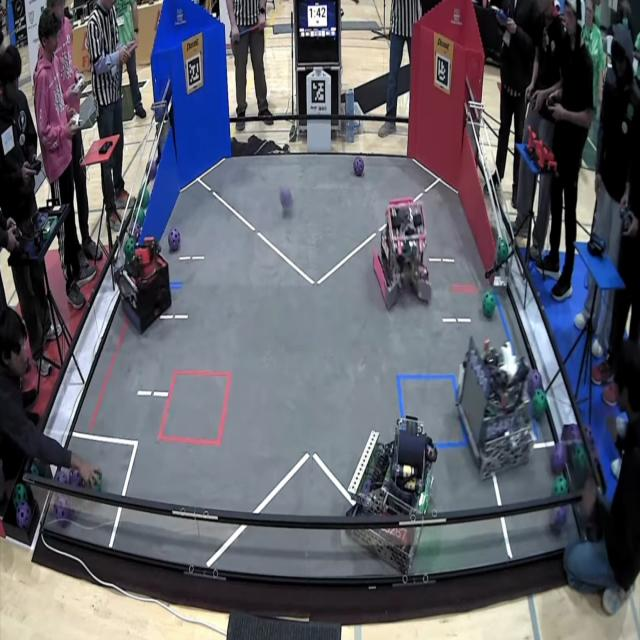artifact_green: (532, 389, 547, 419), (562, 424, 581, 447), (483, 291, 497, 319), (572, 444, 587, 470), (13, 483, 28, 508), (124, 236, 136, 262), (497, 238, 509, 263), (554, 476, 568, 495), (138, 186, 149, 208), (54, 468, 69, 484), (587, 446, 599, 466), (30, 461, 45, 476), (136, 208, 146, 227), (588, 444, 598, 463), (93, 472, 102, 491), (585, 427, 594, 446), (133, 224, 141, 242), (486, 405, 496, 416), (403, 240, 410, 255)
artifact_purple: (54, 496, 72, 526), (550, 505, 568, 534), (552, 442, 567, 475), (16, 502, 32, 530), (528, 370, 542, 398), (562, 424, 580, 444), (566, 424, 582, 445), (168, 228, 180, 252), (280, 187, 292, 210), (70, 470, 84, 487), (570, 424, 582, 443), (54, 469, 68, 484), (585, 427, 595, 446), (354, 157, 364, 176), (149, 159, 157, 181), (589, 444, 598, 463), (134, 223, 141, 241), (561, 424, 568, 441), (363, 480, 371, 494)
